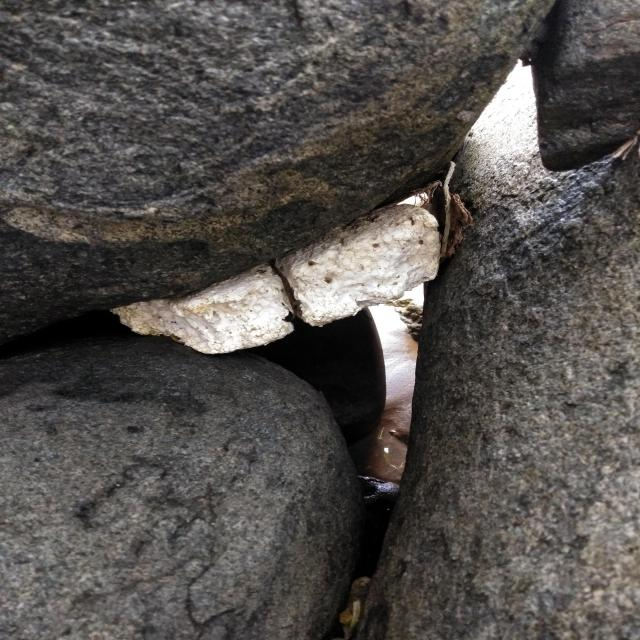Rope - strings: (443, 161, 457, 255)
Styrofoam piece: (275, 203, 441, 326), (111, 262, 295, 354)
